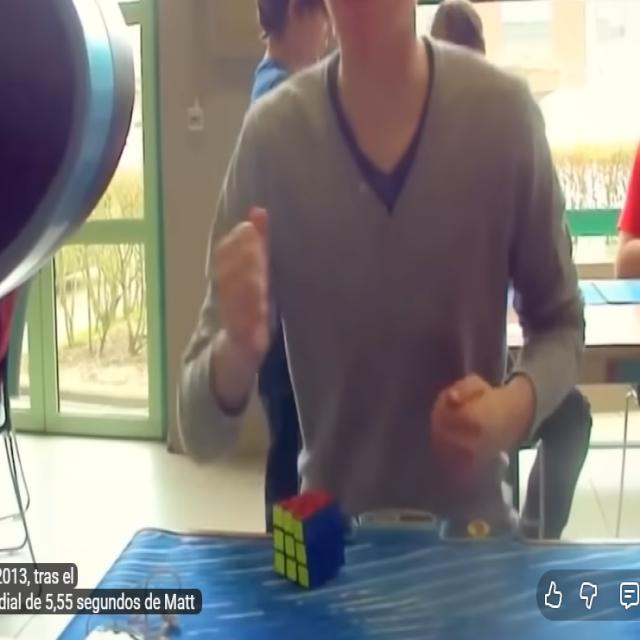Cubo-Resuelto: (272, 491, 344, 589)
